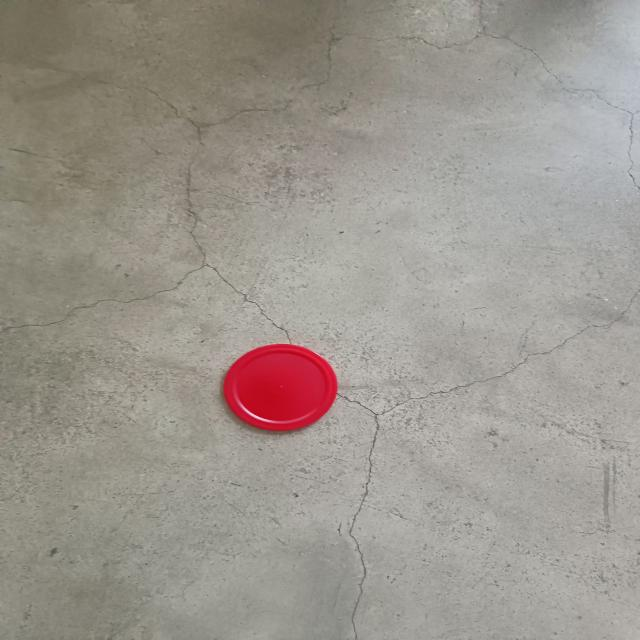chip: (221, 344, 339, 433)
